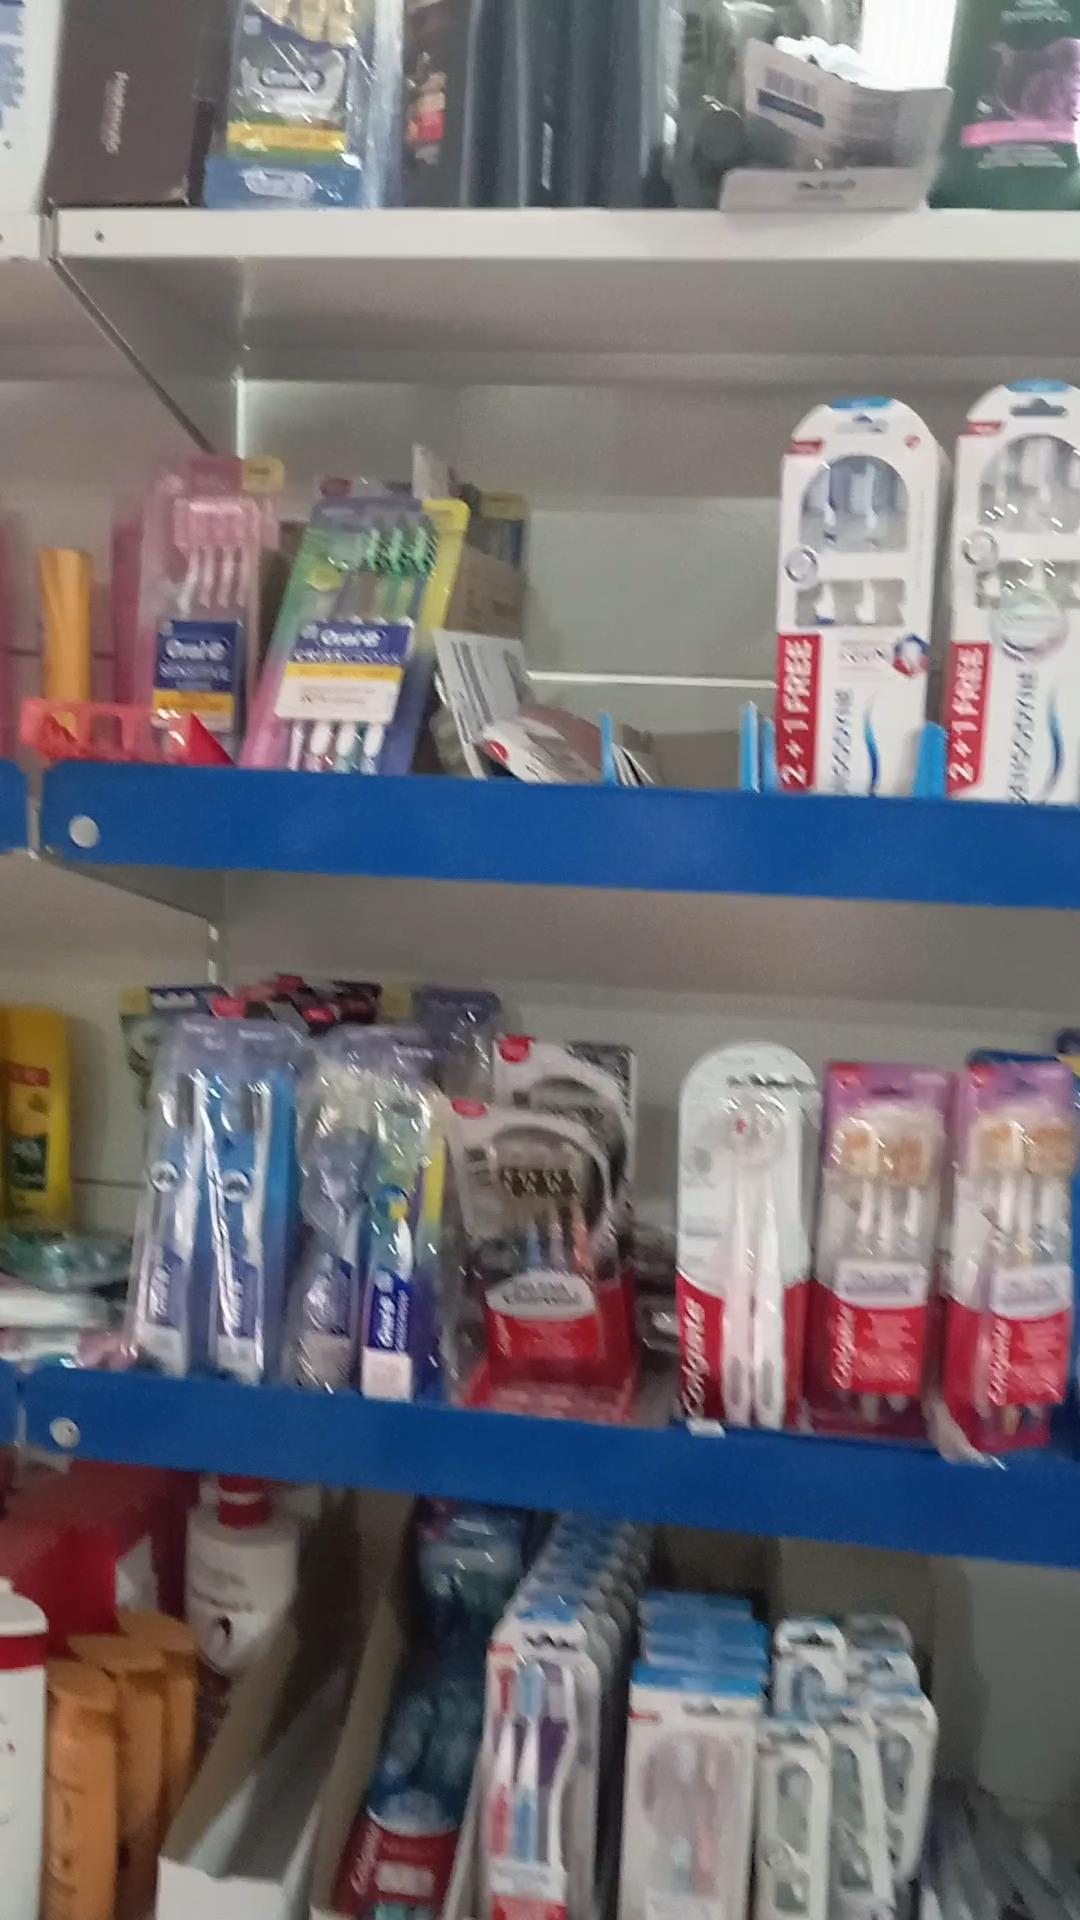10: (140, 458, 253, 764)
16: (782, 393, 926, 796)
4: (951, 381, 1080, 804)
6: (483, 1623, 597, 1920)
7: (629, 1669, 749, 1920)
9: (361, 1080, 429, 1400)
liquid soap: (462, 1122, 612, 1385)
